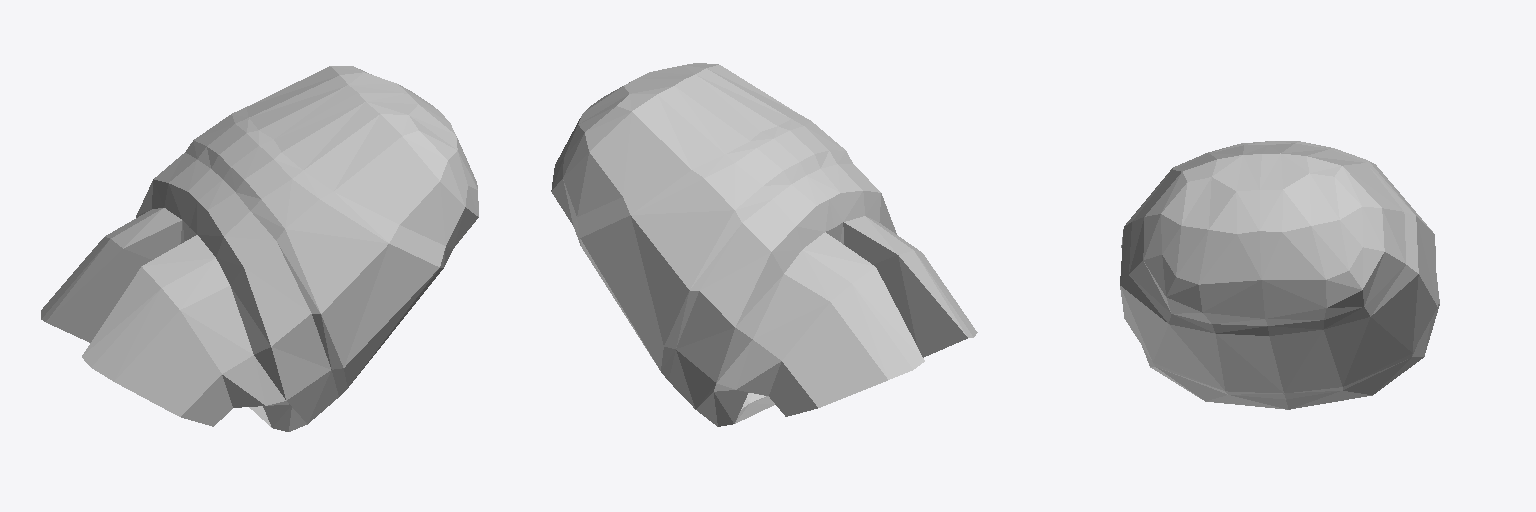
File: LThumb3.obj
The picture shows the model from 3 angles: view 1: azimuth 30°, elevation 25°; view 2: azimuth 150°, elevation 25°; view 3: azimuth 270°, elevation 25°; orthographic projection.
Parts seen in each view (by area): view 1: LThumb3_LThumb3; view 2: LThumb3_LThumb3; view 3: LThumb3_LThumb3.
Part boxes in pixels (x1,y1,x2,y2): LThumb3_LThumb3: (41,66,478,431); LThumb3_LThumb3: (551,63,977,426); LThumb3_LThumb3: (1120,141,1439,409).
Bounding box in the file's own units: 0.0295 × 0.0222 × 0.0218.